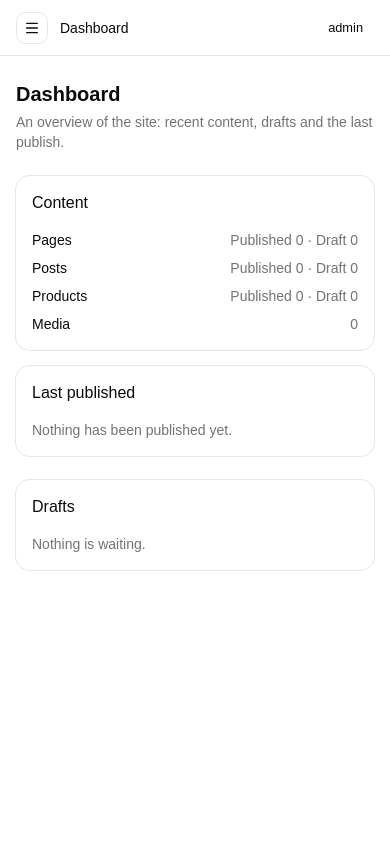
Test: the shell › opens the sections drawer on a narrow screen
Click the button named "Open sections" at (32, 28), box 16,12 -> 48,44
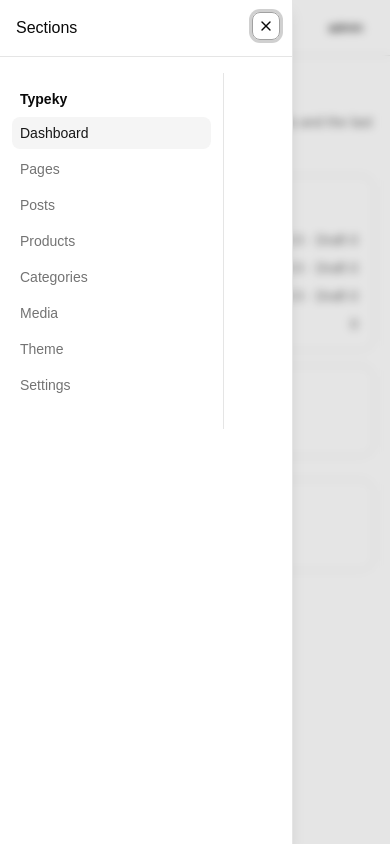
Check: the navigation bar named "Sections" is shown, box 0,73 -> 224,429
